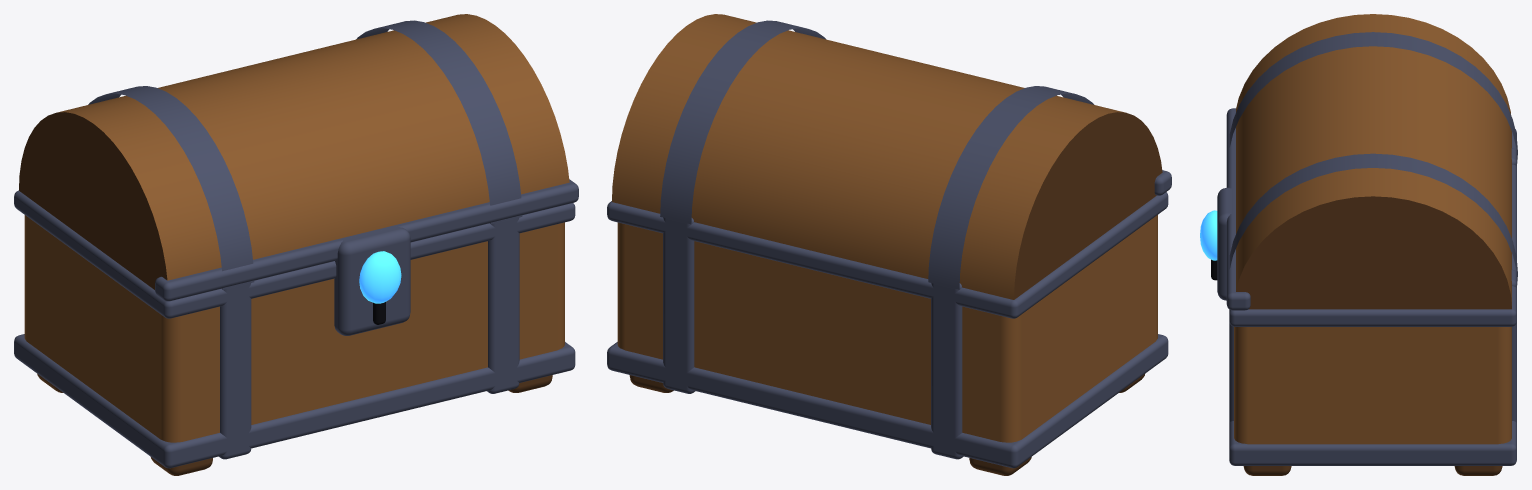
Rendered from chest_common.glb.
3 views of the same model, side by side, from view 1: azimuth 30°, elevation 25°; view 2: azimuth 150°, elevation 25°; view 3: azimuth 270°, elevation 25° (orthographic). The views are drawn at different scales.
Parts seen in each view (by area): view 1: LidBarrel, Base, LidCap-1, BaseRim, BaseTopRim, LidFrontRim, LidBand1, LidBand-1, LockPlate, Band-1, Band1, LockGem; view 2: LidBarrel, Base, LidCap-1, BaseRim, BaseTopRim, LidBand1, LidBand-1, Band1, Band-1; view 3: LidBarrel, Base, LidCap1, BaseRim, BaseTopRim, LidBand-1, LidBand1, LidFrontRim, LockPlate, Band1, LockGem, Foot_02 (+1 smaller).
Boxes of the visible parts, x1,y1,x2,y2 form: LidBarrel: [57, 14, 569, 280]; Base: [24, 215, 564, 442]; LidCap-1: [19, 112, 167, 289]; BaseRim: [14, 334, 575, 468]; BaseTopRim: [14, 190, 575, 318]; LidFrontRim: [155, 179, 578, 301]; LidBand1: [356, 20, 522, 224]; LidBand-1: [88, 86, 254, 289]; LockPlate: [334, 226, 410, 335]; Band-1: [219, 283, 251, 459]; Band1: [487, 217, 519, 393]; LockGem: [359, 251, 401, 303]; LidBarrel: [612, 14, 1124, 299]; Base: [617, 215, 1157, 442]; LidCap-1: [1014, 112, 1162, 299]; BaseRim: [607, 334, 1168, 468]; BaseTopRim: [607, 192, 1168, 318]; LidBand1: [660, 20, 826, 224]; LidBand-1: [928, 86, 1094, 289]; Band1: [663, 217, 695, 393]; Band-1: [931, 283, 963, 459]; LidBarrel: [1236, 14, 1511, 305]; Base: [1234, 326, 1511, 444]; LidCap1: [1236, 196, 1511, 309]; BaseRim: [1229, 421, 1516, 465]; BaseTopRim: [1229, 129, 1516, 326]; LidBand-1: [1229, 32, 1517, 163]; LidBand1: [1229, 153, 1517, 284]; LidFrontRim: [1226, 108, 1250, 310]; LockPlate: [1217, 187, 1231, 300]; Band1: [1229, 269, 1516, 422]; LockGem: [1200, 210, 1217, 260]; Foot_02: [1454, 466, 1502, 475].
Bounding box in the file's own units: 0.93 × 0.672 × 0.6627.
